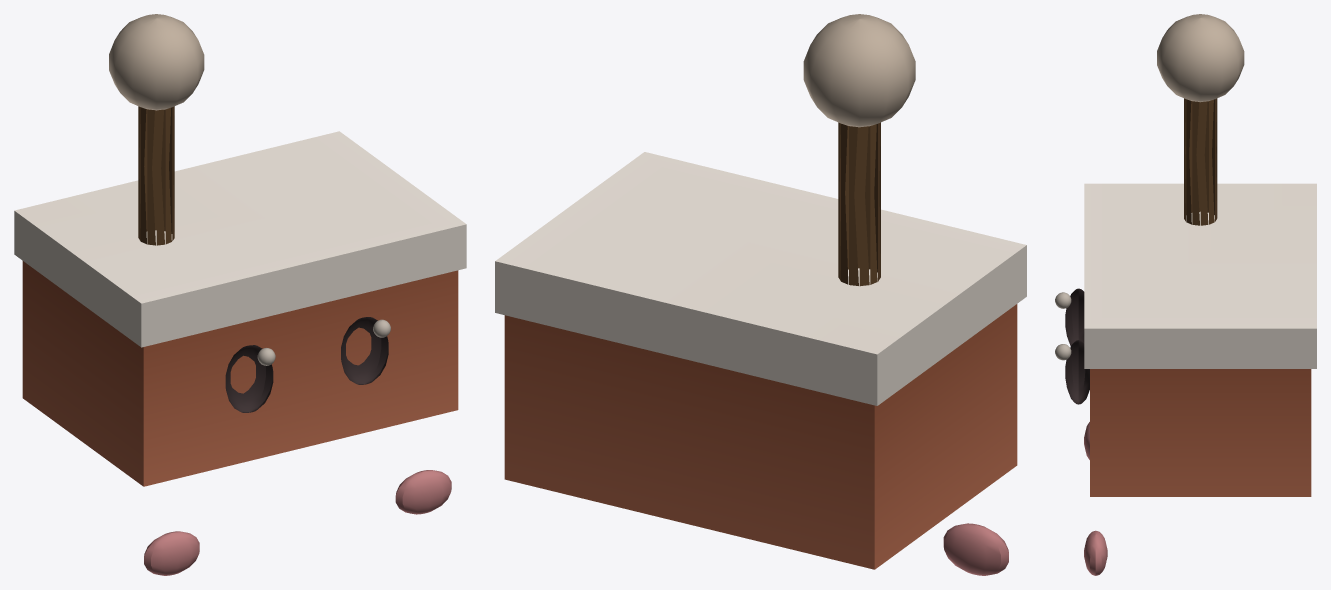
The picture shows the model from 3 angles, left to right: view 1: azimuth 30°, elevation 25°; view 2: azimuth 150°, elevation 25°; view 3: azimuth 270°, elevation 25°; orthographic projection. The views are drawn at different scales.
Parts seen in each view (by area): view 1: pet_p5e582f76; view 2: pet_p5e582f76; view 3: pet_p5e582f76.
Boxes of the visible parts, box(x1,y1,x2,y2) form: pet_p5e582f76: box(14, 14, 466, 575); pet_p5e582f76: box(495, 14, 1026, 575); pet_p5e582f76: box(1055, 14, 1316, 575).
Bounding box in the file's own units: 0.31 × 0.4589 × 0.2364.
